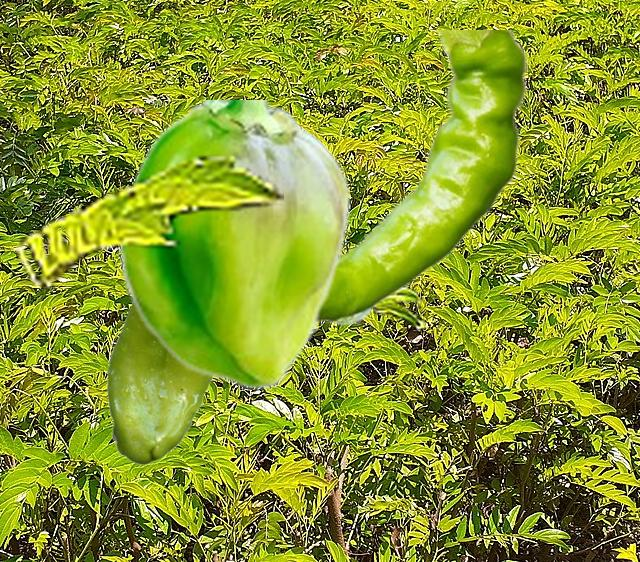green_chili: (118, 100, 351, 390), (320, 30, 528, 325), (106, 303, 213, 464)
